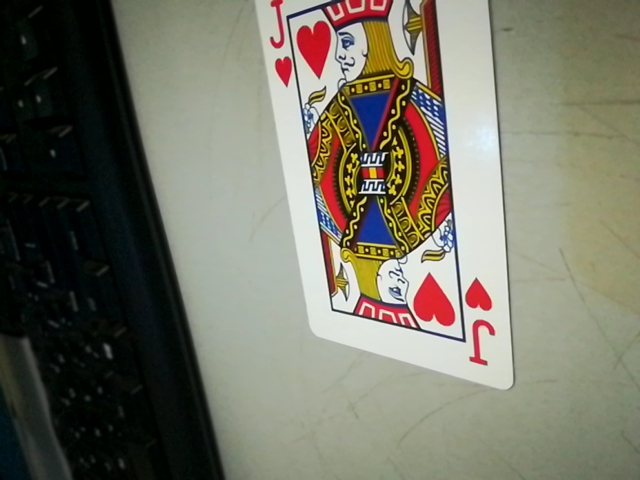hx j: (457, 273, 505, 374)
